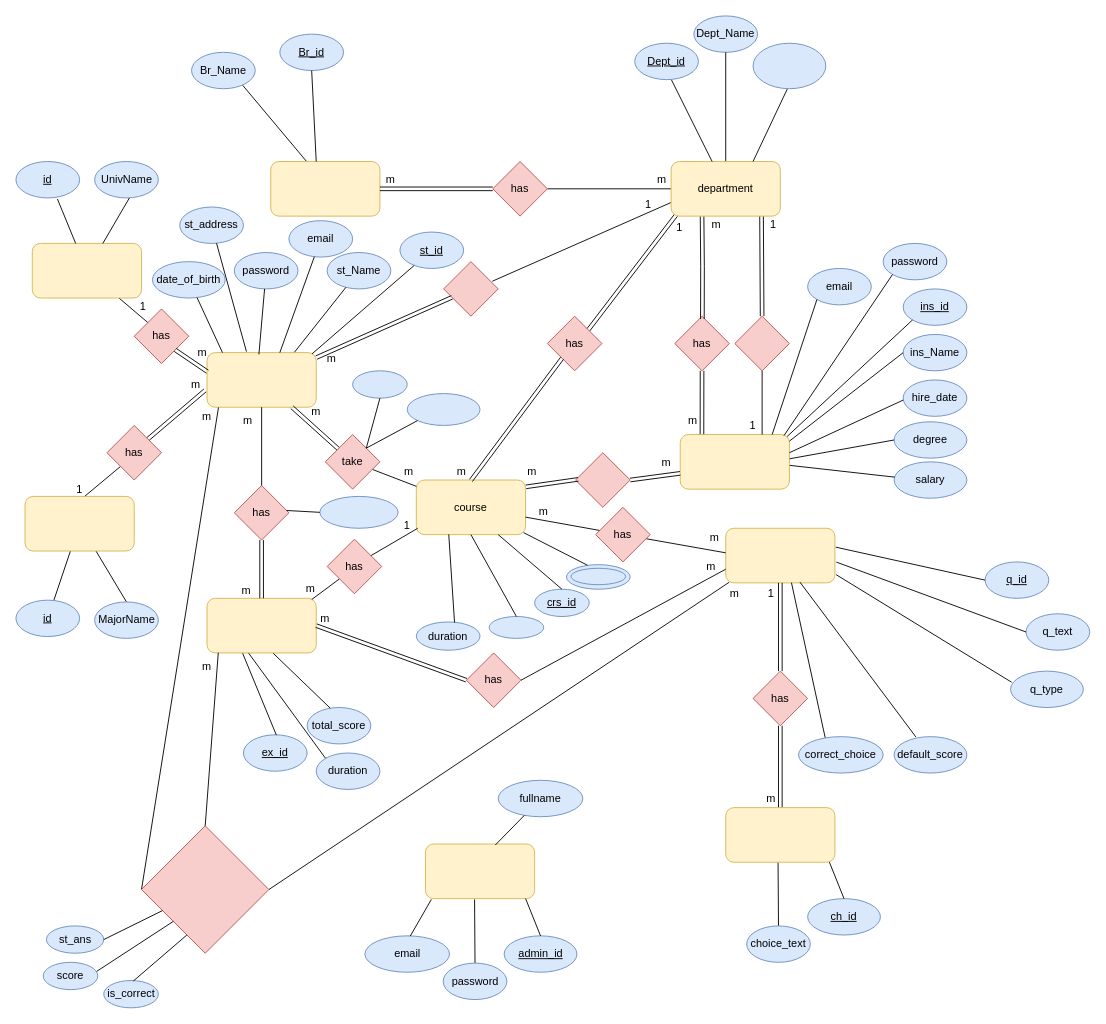
This 1106x1024 diagram has some shape labels left out. The centre of each missing label's shape, as x and y in pixels:
Admin: (x=480, y=871)
answer: (x=205, y=889)
assign: (x=470, y=288)
assign_date: (x=443, y=409)
branch: (x=325, y=188)
choices: (x=780, y=834)
crs_Name: (x=516, y=627)
Dept_location: (x=789, y=65)
exam: (x=261, y=625)
grade: (x=379, y=384)
instrutor: (x=734, y=461)
Major: (x=79, y=523)
manage: (x=761, y=343)
questions: (x=780, y=555)
score_per_q: (x=358, y=511)
student: (x=261, y=379)
teach: (x=602, y=479)
topices: (x=598, y=576)
University: (x=86, y=270)
